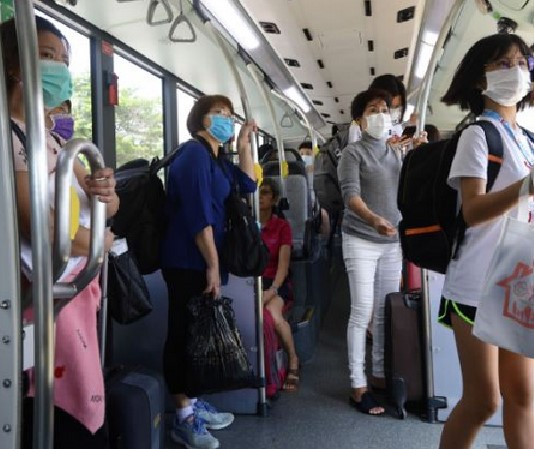face_no_mask: (257, 176, 280, 214)
face_with_mask: (2, 15, 73, 114), (471, 35, 532, 109), (189, 95, 234, 144), (350, 88, 391, 141)
